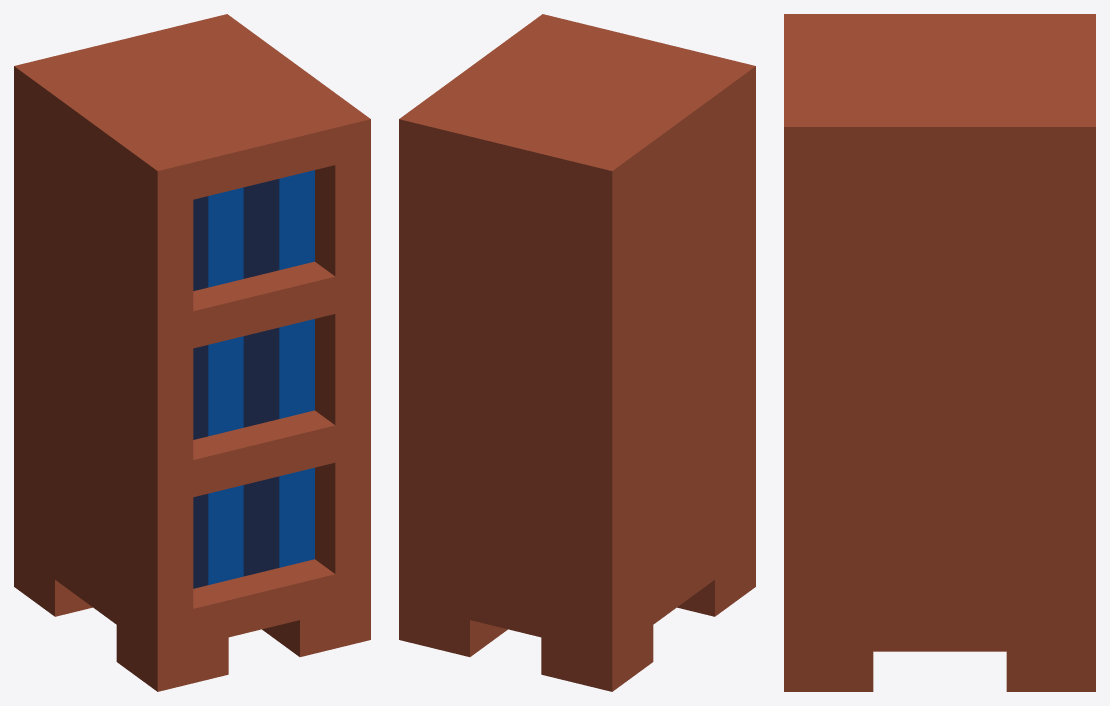
The model's file is small_bookcase_a_blue.obj.
3 views of the same model, side by side, from view 1: azimuth 30°, elevation 25°; view 2: azimuth 150°, elevation 25°; view 3: azimuth 270°, elevation 25° (orthographic). The views are drawn at different scales.
Bounding box in the file's own units: 0.6 × 1.4 × 0.7.
1 material, 1 textured.
